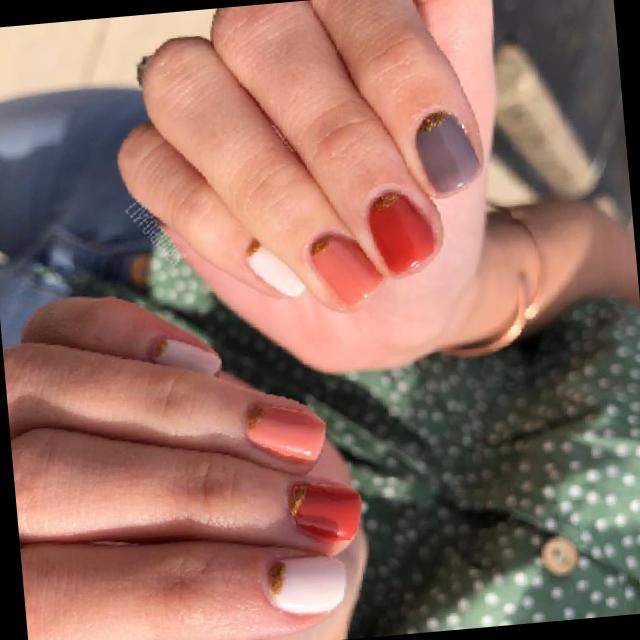Nail: (368, 192, 435, 275), (414, 111, 478, 195), (310, 234, 382, 305), (268, 556, 345, 614), (245, 405, 324, 461), (288, 483, 360, 541), (245, 239, 305, 297), (151, 338, 220, 375)
